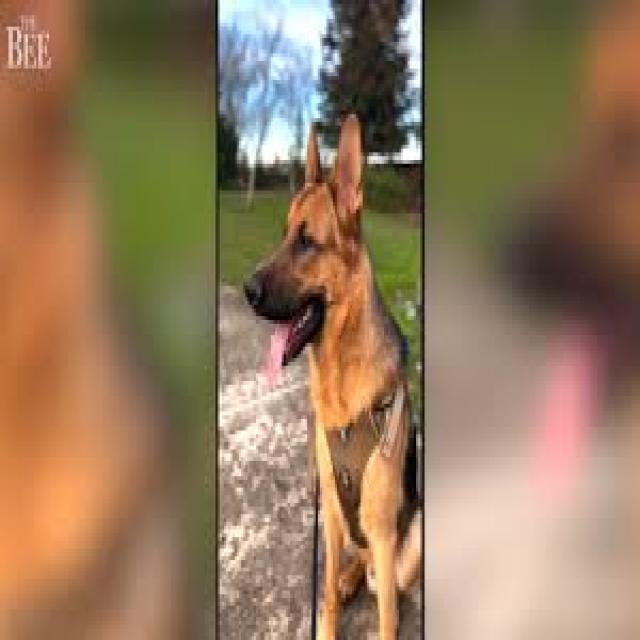Dog: (240, 108, 423, 629)
